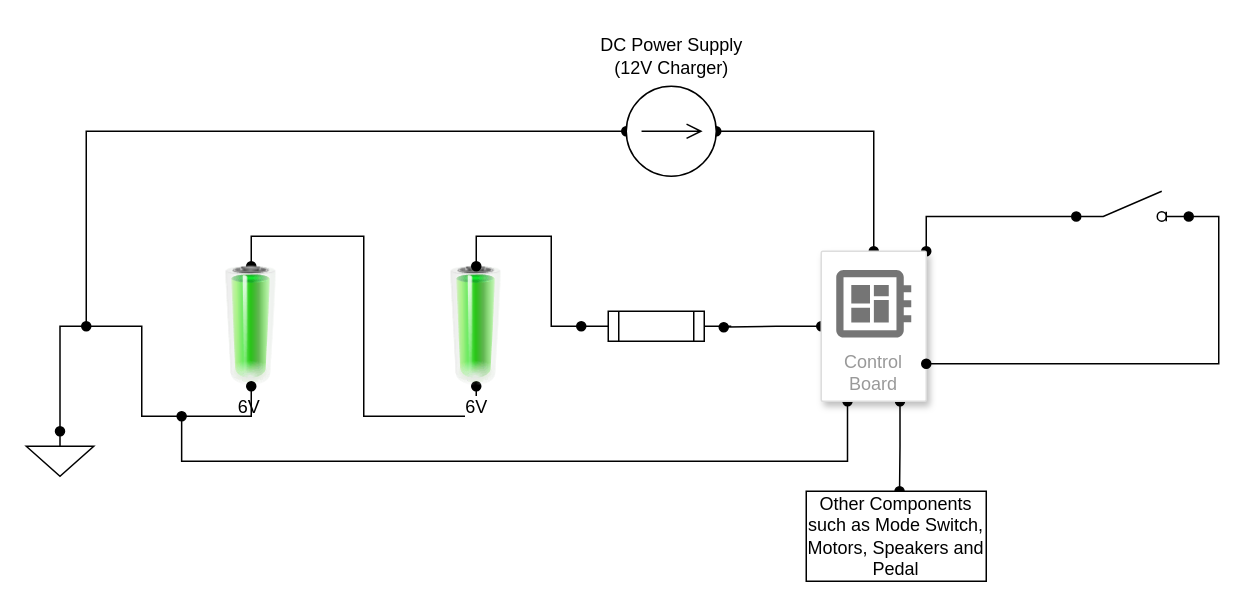
Some shapes in this 1259 by 608 pixel diagram are drawn without their labels. The shapes that lost their labels are listed below. From the top down, each one's centre as x and y in pixels, then its label:
point 1132,205: Power Switch
point 655,325: Reset Relay Fuse
